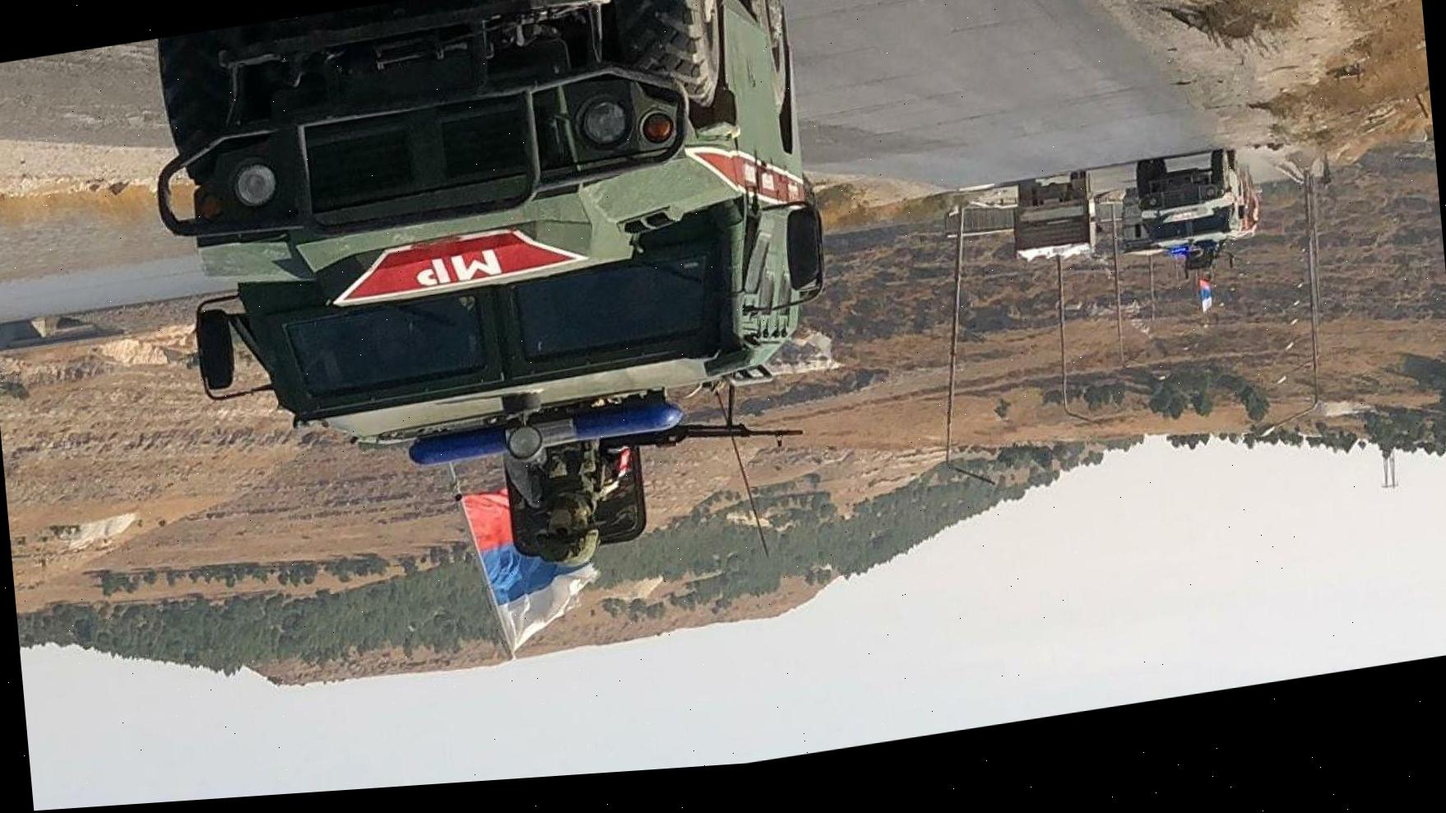armored_car: (141, 0, 846, 611), (1133, 143, 1249, 278)
